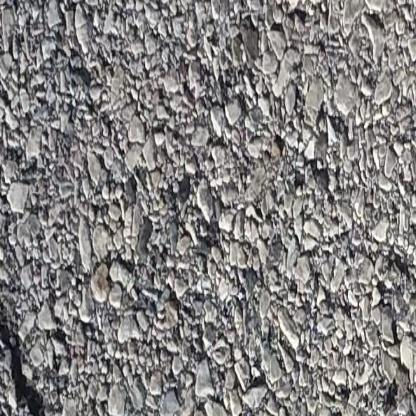Cracks: (0, 258, 68, 416)
